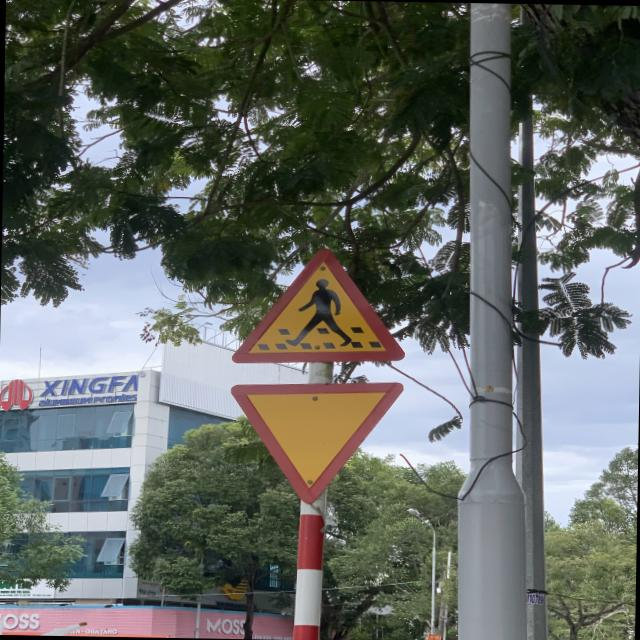Duong_Nguoi_Di_Bo_Sang_Ngang: (235, 246, 407, 366)
Gioi_Han_Toc_Do_25: (230, 377, 402, 506)
